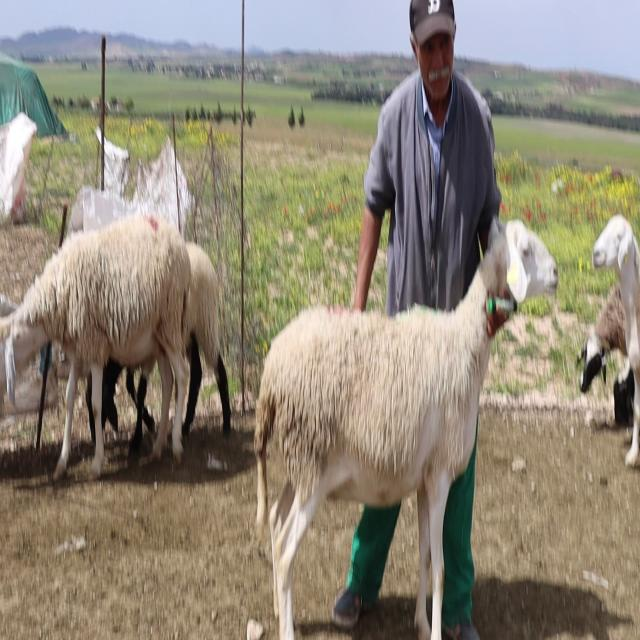Score_3: (254, 220, 558, 639)
